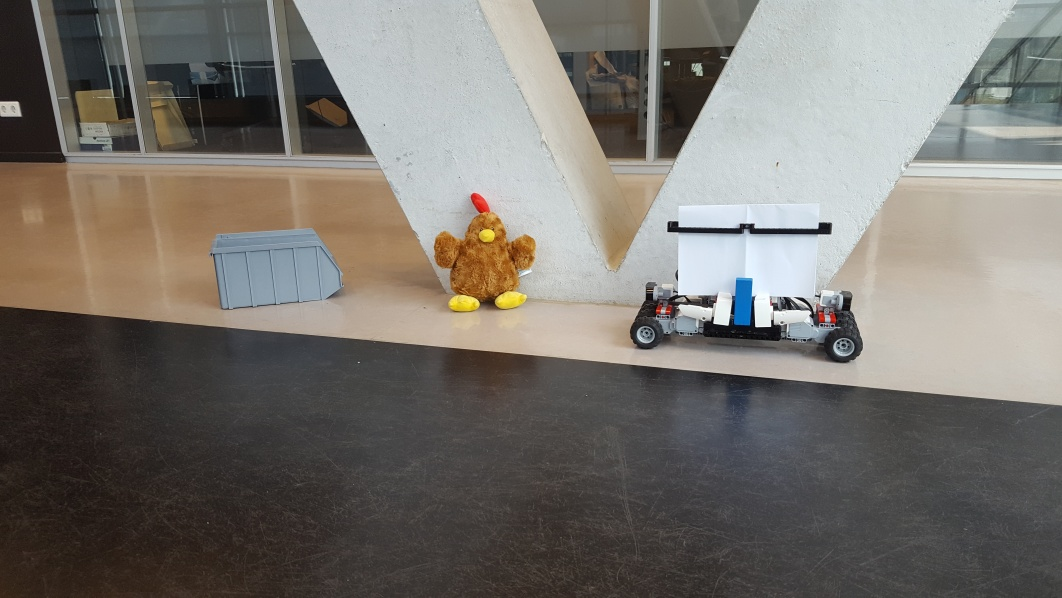beam: (732, 275, 752, 328)
chicken: (435, 192, 538, 316)
tray: (208, 226, 342, 312)
